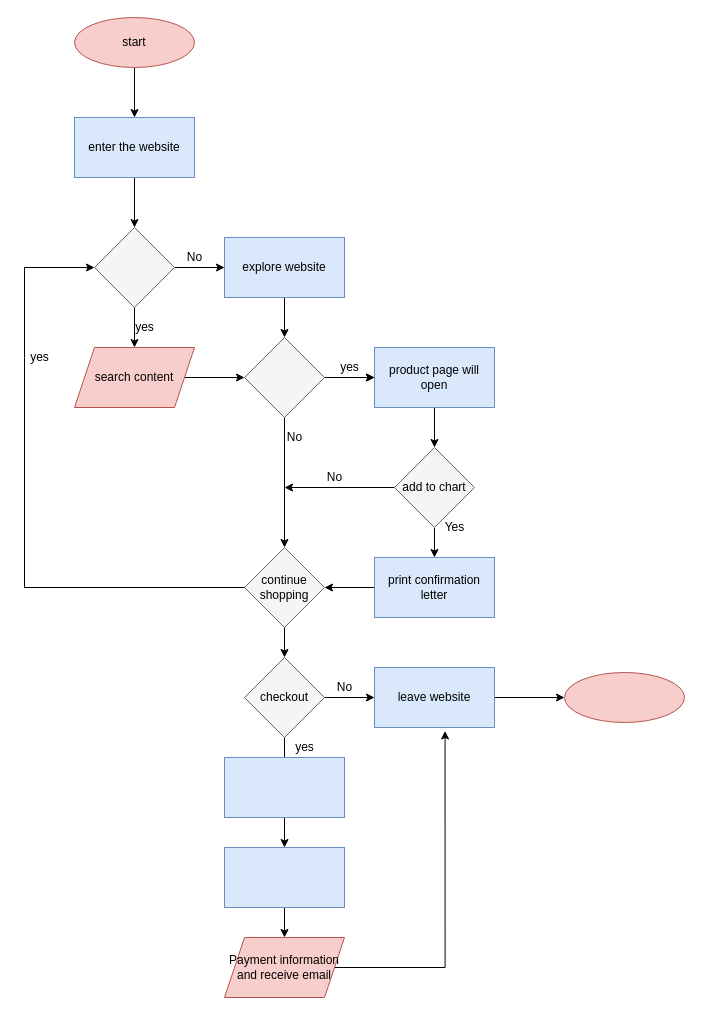
The diagram is 702 pixels wide and 1015 high, and some of its shapes have lost their labels. The centre of each missing label's shape, as x and y in pixels:
end: pixel 624 697
search for product: pixel 134 267
view cart: pixel 284 787
view payment: pixel 284 877
view specific item: pixel 284 377
